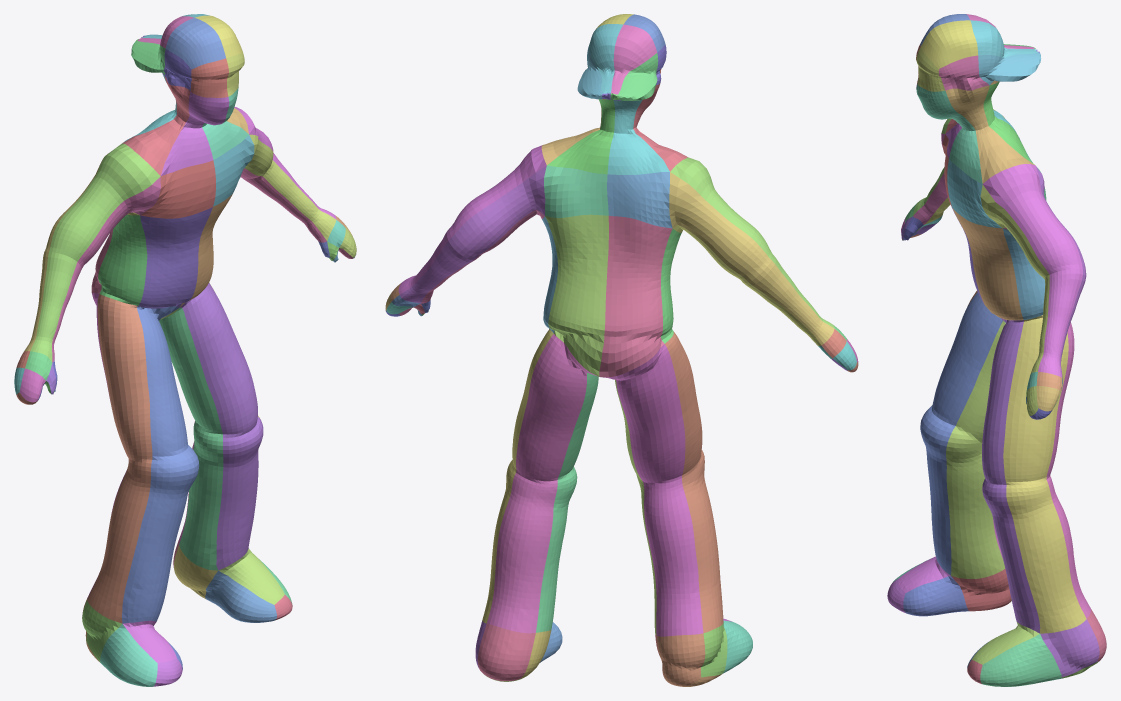
File: 13_guy_output.obj
The picture shows the model from 3 angles, left to right: view 1: azimuth 30°, elevation 25°; view 2: azimuth 150°, elevation 25°; view 3: azimuth 270°, elevation 25°; orthographic projection. The views are drawn at different scales.
Size of the model in its own units: 0.6007 by 0.9 by 0.2882.
